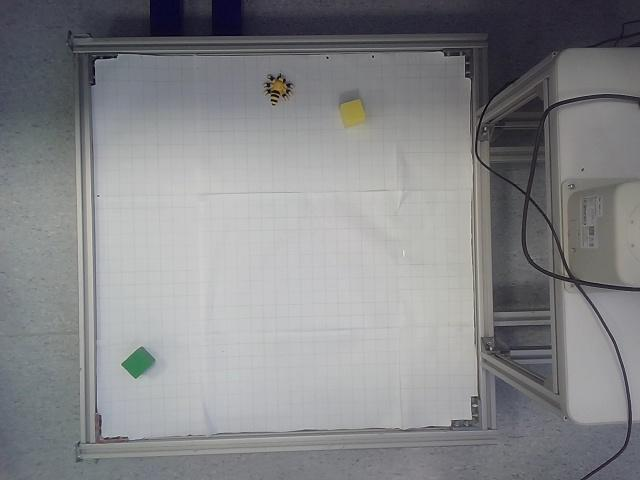frelon: (264, 73, 293, 106)
